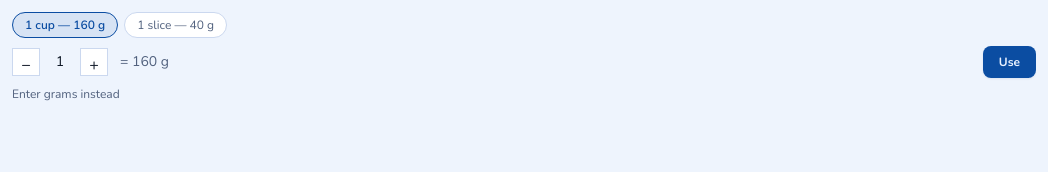
Scenario: PortionPicker › picks the selected portion scaled by the stepper
Later steps or results of the test are not shown.
Click the button named "More" at (94, 62), box [80,48,108,76]
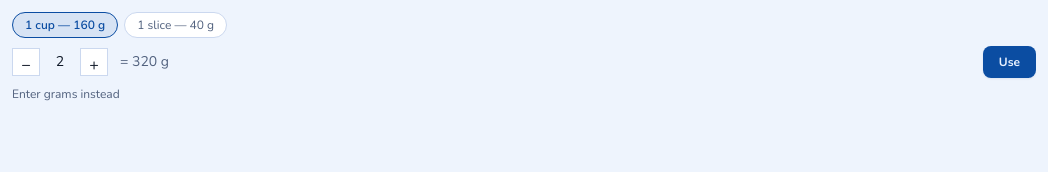
expect the text "= 320 g" is shown: met, box [120,52,169,72]
